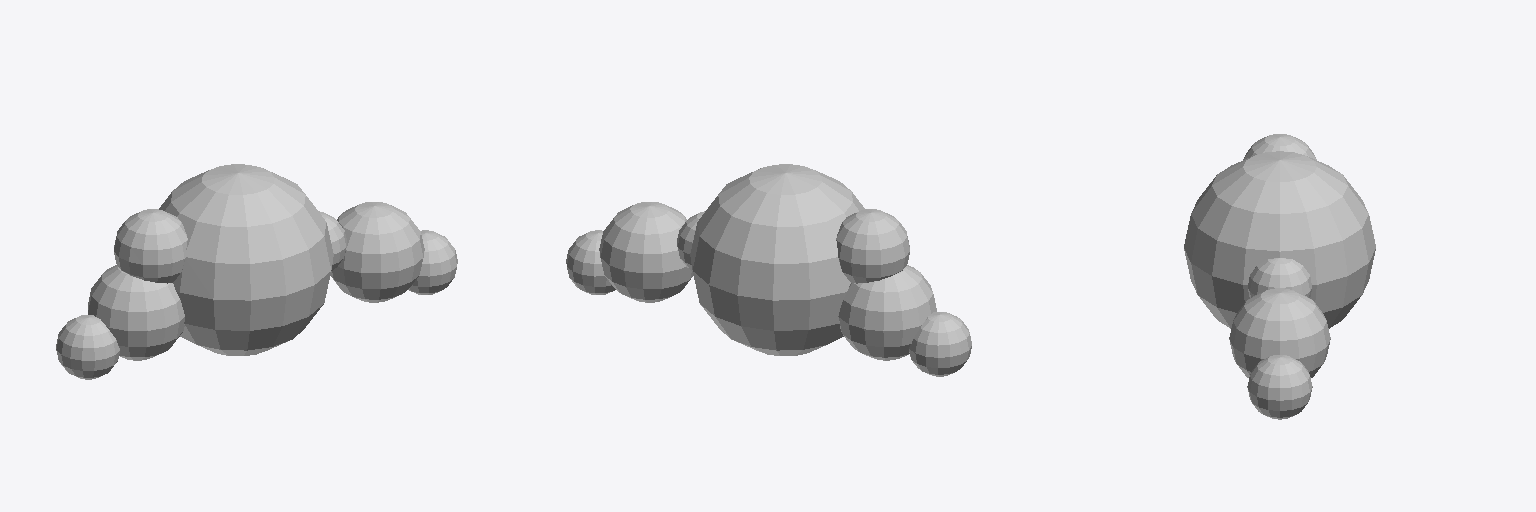
Rendered from msh_cloud_C_01.obj.
3 views of the same model, side by side, from view 1: azimuth 30°, elevation 25°; view 2: azimuth 150°, elevation 25°; view 3: azimuth 270°, elevation 25° (orthographic).
Visible parts, largest first — view 1: Cloud_03; view 2: Cloud_03; view 3: Cloud_03.
Boxes of the visible parts, <box> form: Cloud_03: <box>56,164,457,379</box>; Cloud_03: <box>566,164,971,376</box>; Cloud_03: <box>1184,134,1375,419</box>.
Size of the model in its own units: 7.87 by 3.32 by 3.32.